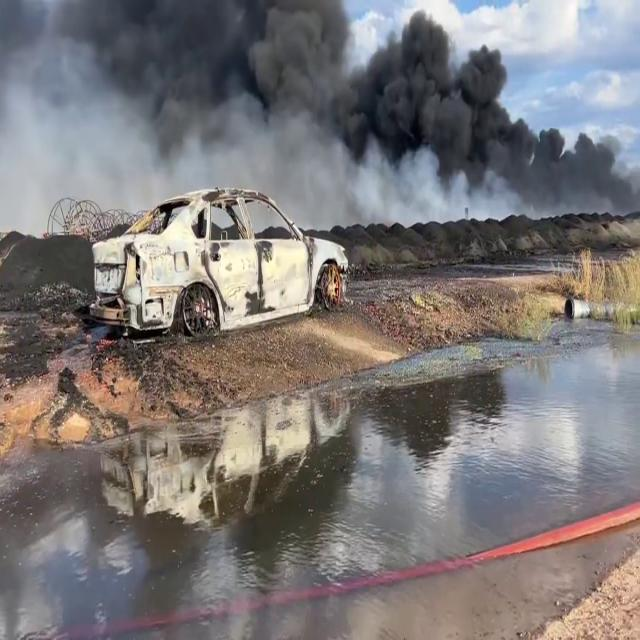Smoke: (11, 0, 633, 236)
